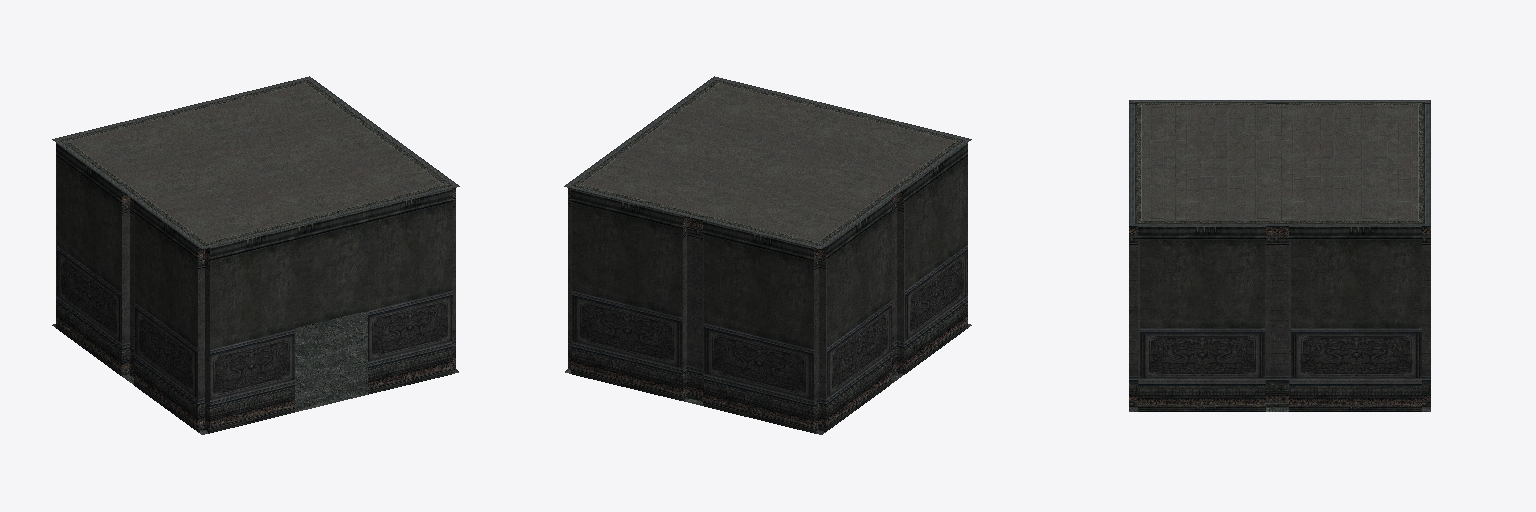
3 renders of one model, left to right at view 1: azimuth 30°, elevation 25°; view 2: azimuth 150°, elevation 25°; view 3: azimuth 270°, elevation 25°, orthographic.
Parts seen in each view (by area): view 1: StartRoom; view 2: StartRoom; view 3: StartRoom.
Boxes of the visible parts, x1,y1,x2,y2 form: StartRoom: [52, 76, 459, 434]; StartRoom: [564, 76, 971, 434]; StartRoom: [1129, 100, 1430, 411].
Size of the model in its own units: 33.52 by 23.1 by 33.86.
14 materials, 14 textured.